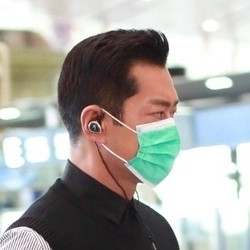mask: (83, 106, 184, 189)
